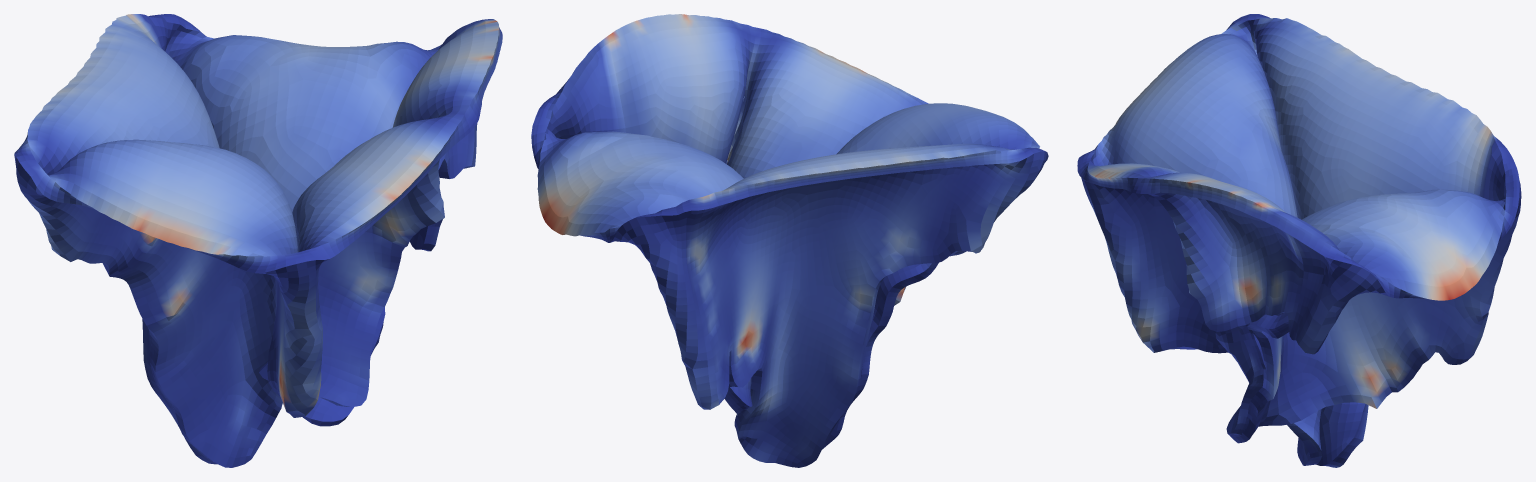
The model's file is 3Dand2.glb.
The picture shows the model from 3 angles, left to right: view 1: azimuth 30°, elevation 25°; view 2: azimuth 150°, elevation 25°; view 3: azimuth 270°, elevation 25°; orthographic projection. The views are drawn at different scales.
Visible parts, largest first — view 1: stress3D; view 2: stress3D; view 3: stress3D.
Boxes of the visible parts, bbox=[...] form: stress3D: bbox=[14, 14, 502, 467]; stress3D: bbox=[531, 14, 1048, 467]; stress3D: bbox=[1077, 14, 1521, 467].
Size of the model in its own units: 13.69 by 10.59 by 11.61.
